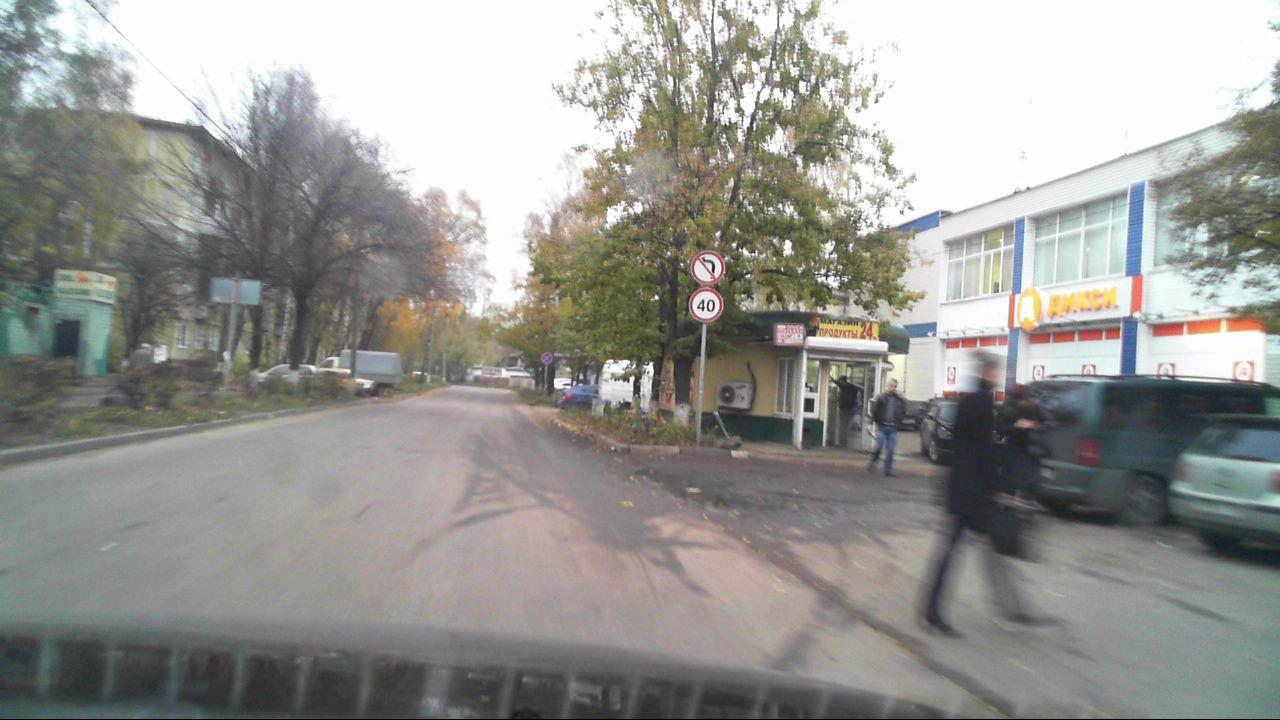3_18_2: (689, 251, 723, 286)
3_24: (688, 288, 723, 323)
3_27: (541, 351, 553, 365)
